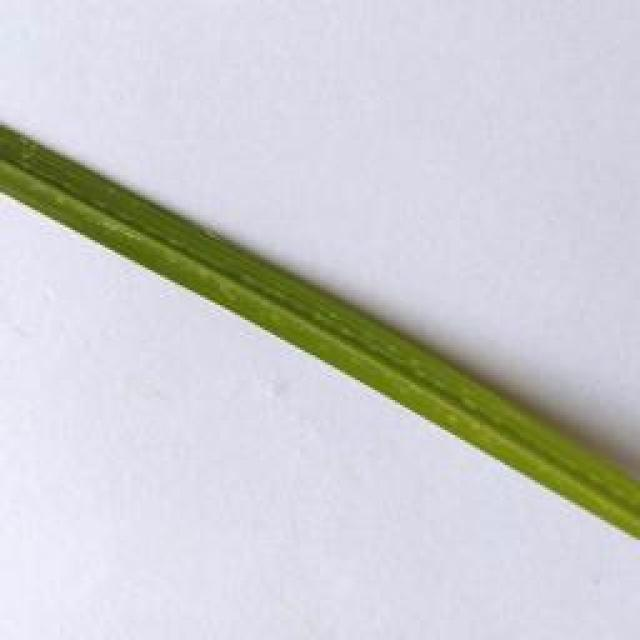Healthy-Plant: (0, 122, 640, 538)
